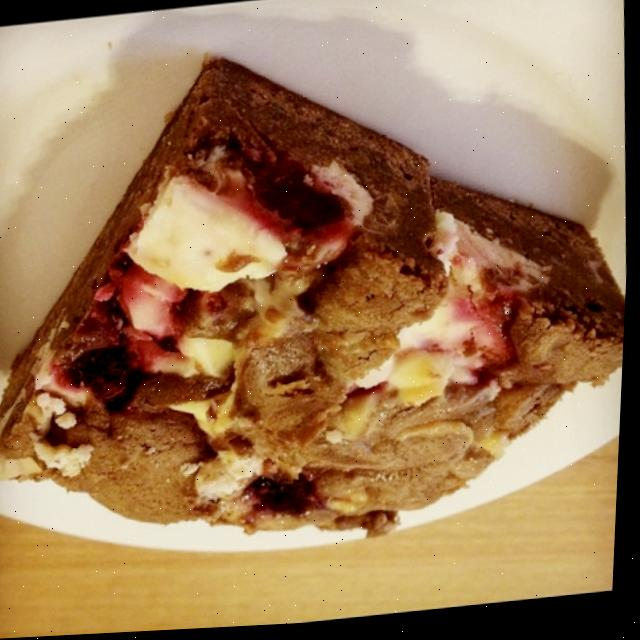蛋糕甜品: (0, 12, 639, 628)
